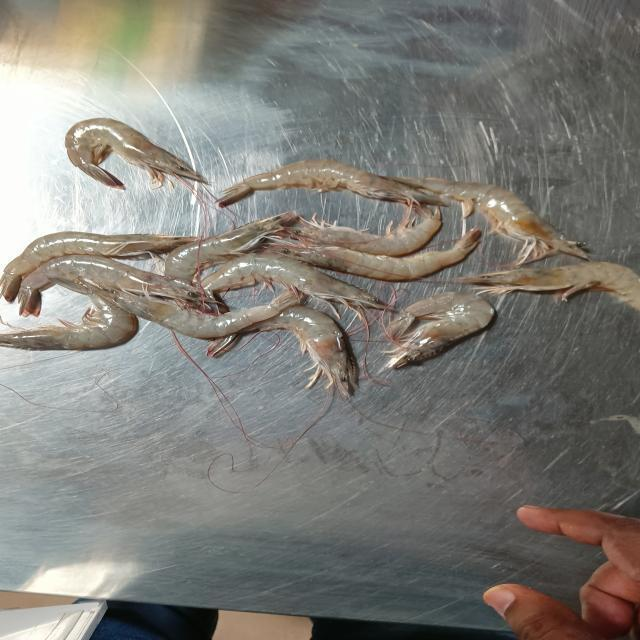shrimp: (390, 178, 587, 266), (0, 231, 197, 302), (58, 281, 299, 339), (18, 255, 215, 316), (201, 254, 387, 315), (266, 228, 480, 281), (217, 160, 445, 208), (246, 305, 359, 396), (64, 118, 208, 189), (164, 211, 299, 279), (458, 262, 640, 310), (383, 292, 494, 368), (0, 294, 137, 350), (286, 208, 440, 256)
